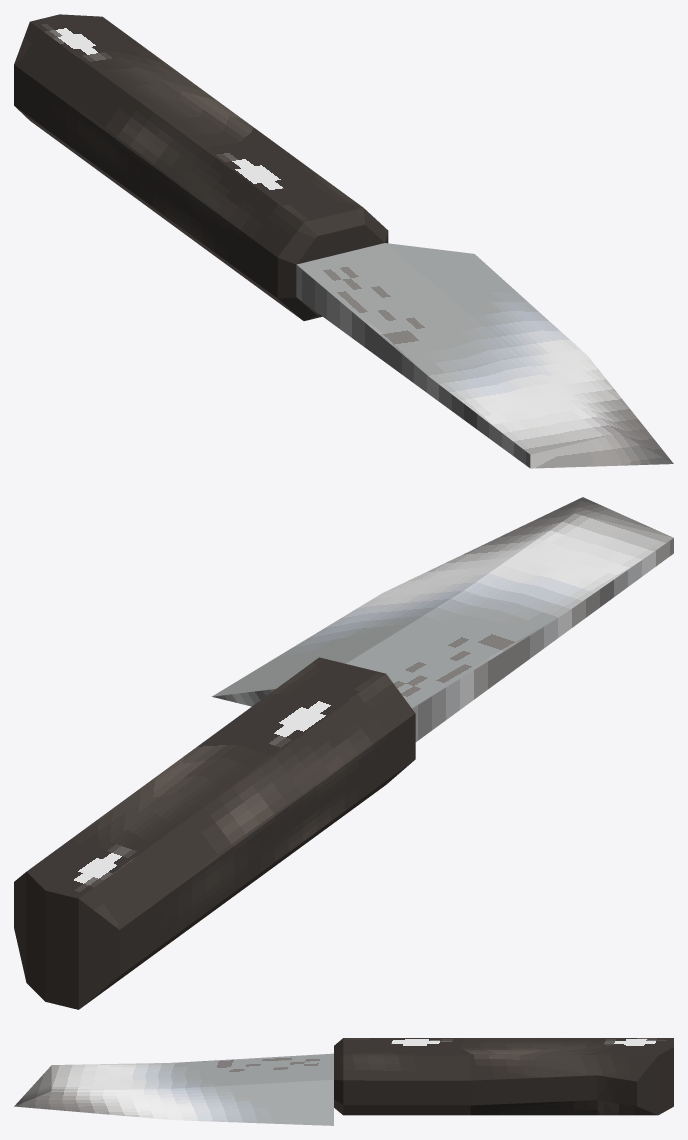
File: KitchenKnife.glb
The picture shows the model from 3 angles, top to bottom: view 1: azimuth 30°, elevation 25°; view 2: azimuth 150°, elevation 25°; view 3: azimuth 270°, elevation 25°; orthographic projection. The views are drawn at different scales.
Parts seen in each view (by area): view 1: Kitchen Knife; view 2: Kitchen Knife; view 3: Kitchen Knife.
Part boxes in pixels (<box>): Kitchen Knife: <box>14,14,673,468</box>; Kitchen Knife: <box>14,497,673,1009</box>; Kitchen Knife: <box>14,1038,673,1125</box>.
Size of the model in its own units: 0.061 by 0.0305 by 0.3048.
1 material, 1 textured.
